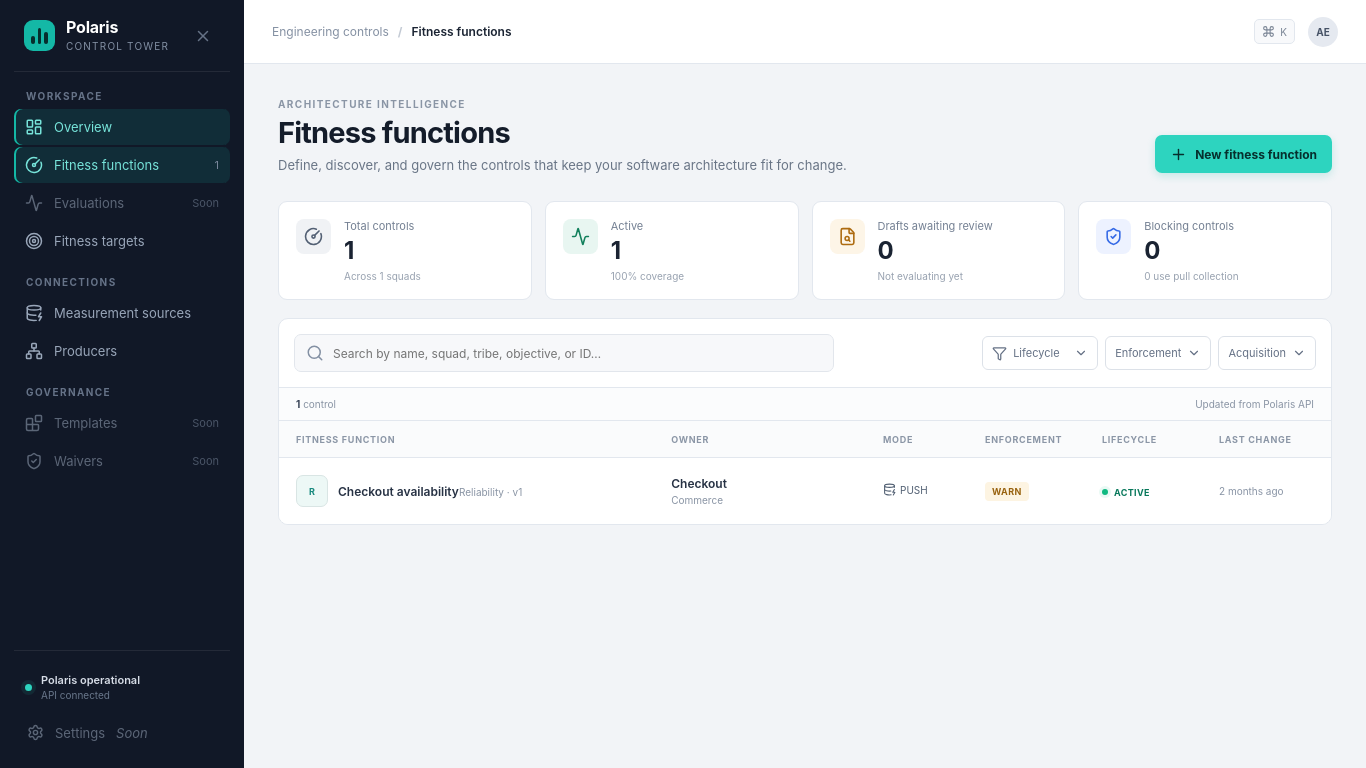
Test: Polaris control tower › resets filters and search from the overview navigation
Expected: the text "Checkout availability" is shown, [338,484,459,498]
Type "nomatch" into the field named "Search fitness functions" at (573, 353), box [324,335,822,371]
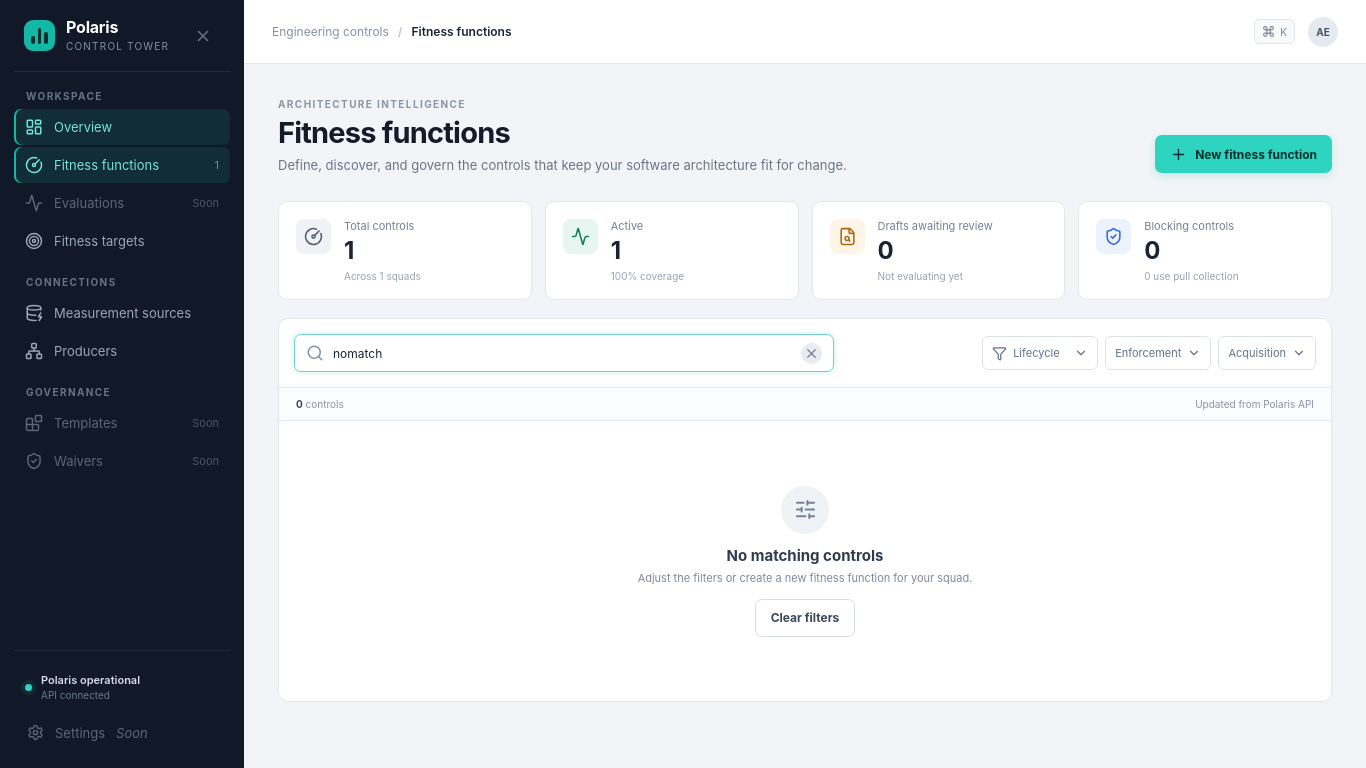
Expected: the heading "No matching controls" is shown, [727,546,883,564]
Click the button "Overview" at (122, 127), box [14,109,230,145]
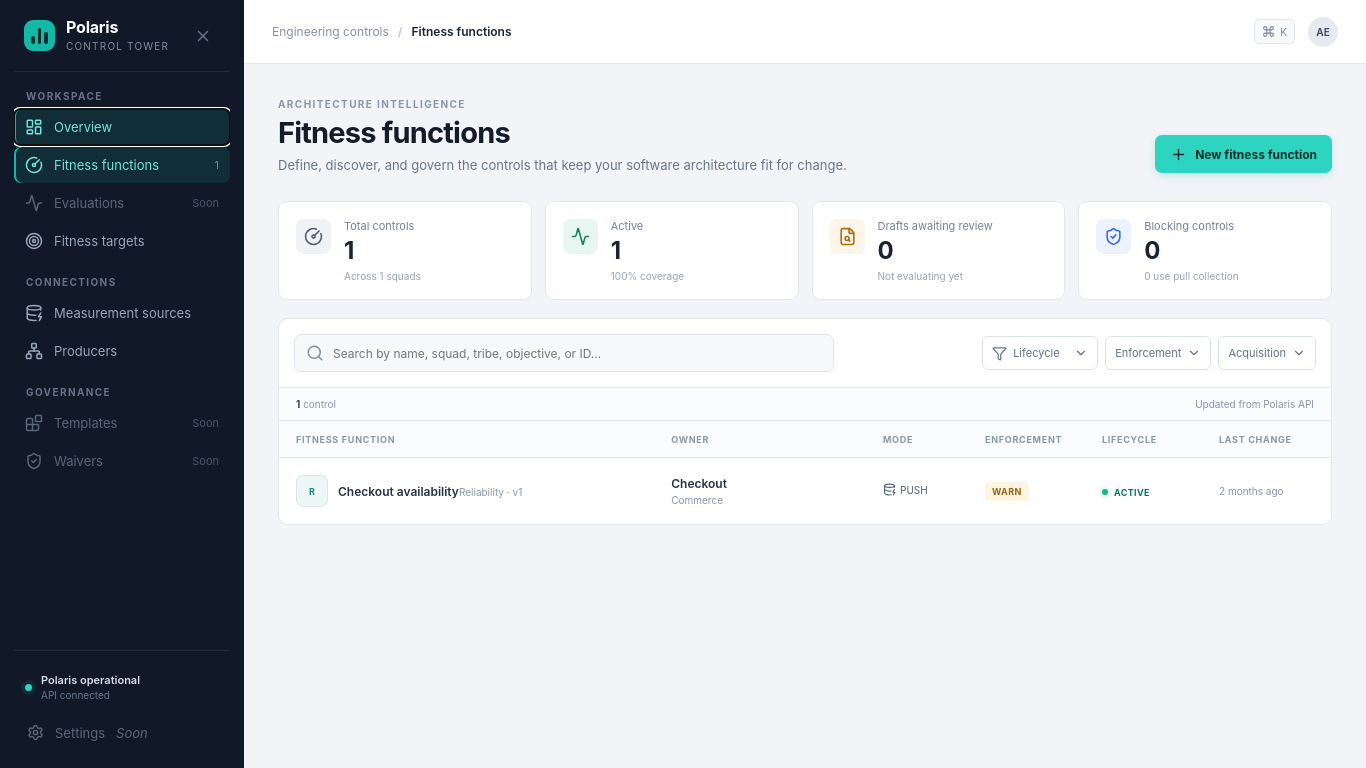
Expected: the text "Checkout availability" is shown, [338,484,459,498]
